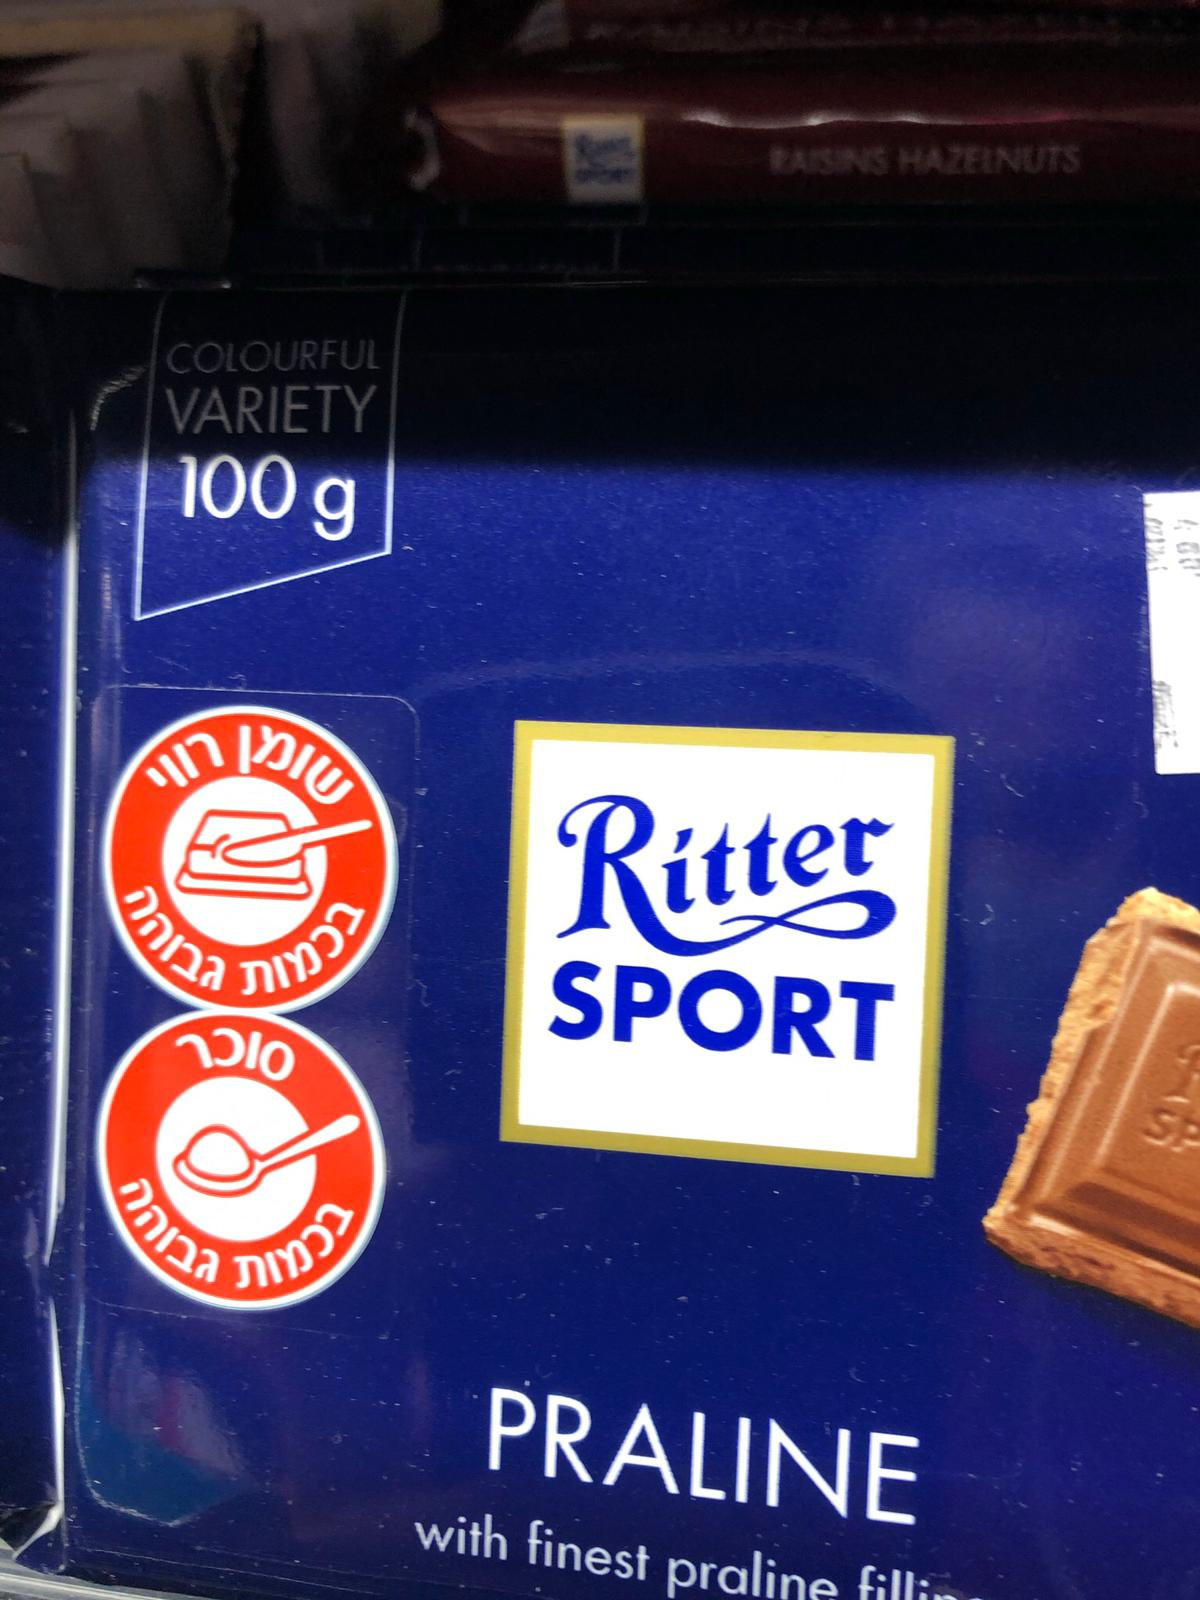fat: (101, 706, 396, 1010)
sugar: (95, 1013, 395, 1313)
